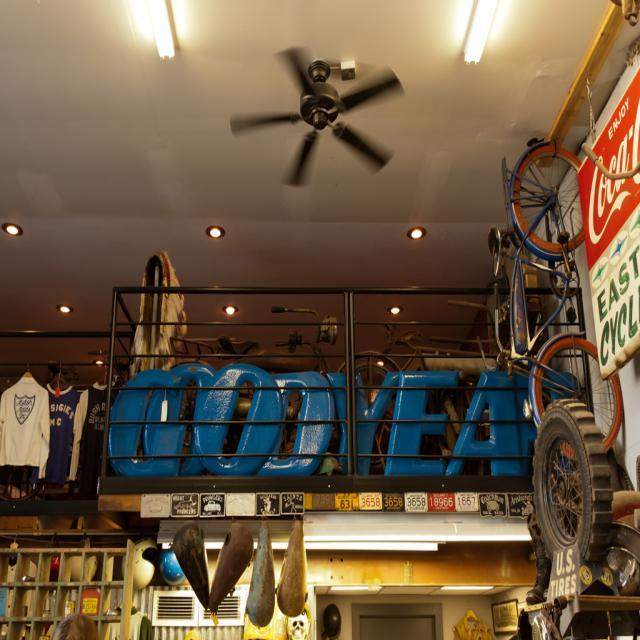fan_on: (230, 52, 399, 184)
